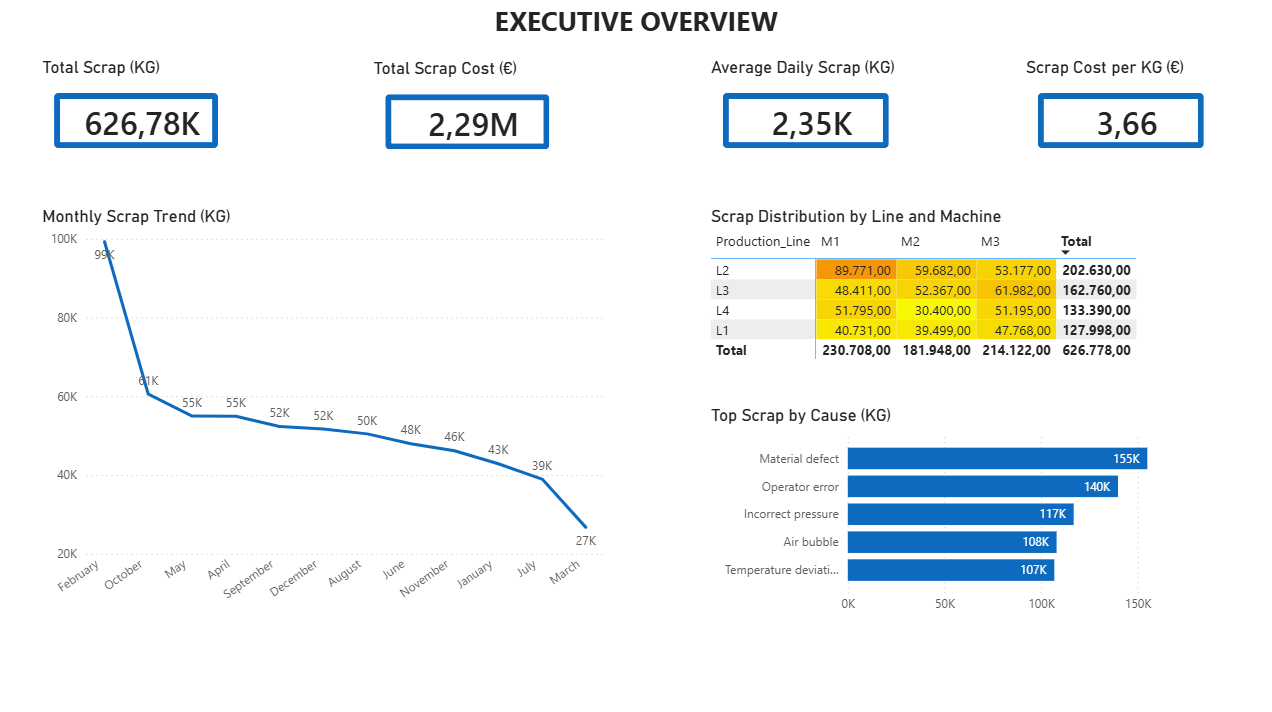

Layout of this report page (visuals, bound fields, positions):
{"tool":"powerbi","page":{"name":"Executive Overview","canvas":[1280,720],"ordinal":0},"visuals":[{"type":"cardVisual","title":"Total Scrap (KG)","fields":{"Data":["ScrapData.Total Scrap KG"]},"box":[41.2,60,198.8,108.8],"z":0},{"type":"textbox","box":[0,0,1280,49.8],"z":1000},{"type":"cardVisual","title":"Total Scrap Cost (€)","fields":{"Data":["ScrapData.Total Scrap Cost"]},"box":[372.5,61.2,198.8,108.8],"z":2000},{"type":"cardVisual","title":"Average Daily Scrap (KG)","fields":{"Data":["ScrapData.Avg Scrap/Day"]},"box":[710,60,200,108.8],"z":3000},{"type":"cardVisual","title":"Scrap Cost per KG (€)","fields":{"Data":["ScrapData.Scrap Cost/KG"]},"box":[1025,60,200,108.8],"z":4000},{"type":"lineChart","title":"Monthly Scrap Trend (KG)","fields":{"Category":["ScrapData.MonthName"],"Y":["ScrapData.Total Scrap KG"]},"box":[41.2,208.8,571.2,416.2],"z":5000},{"type":"barChart","title":"Top Scrap by Cause (KG)","fields":{"Y":["ScrapData.Total Scrap KG"],"Category":["ScrapData.Cause"]},"box":[710,407.5,515,217.5],"z":6000},{"type":"pivotTable","title":"Scrap Distribution by Line and Machine","fields":{"Rows":["ScrapData.Production_Line"],"Columns":["ScrapData.Machine"],"Values":["Sum(ScrapData.Scrap_KG)"]},"box":[710,208.8,515,167.5],"z":7000}]}

Visuals, with their boxes in screenshot pixels (x1, y1, x2, y2), scaled from the page's 1280x720 canvas onto the 1272x712 screenshot:
"Total Scrap (KG)" cardVisual: box(41, 59, 238, 167)
textbox: box(0, 0, 1271, 49)
"Total Scrap Cost (€)" cardVisual: box(370, 61, 568, 168)
"Average Daily Scrap (KG)" cardVisual: box(706, 59, 904, 167)
"Scrap Cost per KG (€)" cardVisual: box(1019, 59, 1217, 167)
"Monthly Scrap Trend (KG)" lineChart: box(41, 206, 609, 618)
"Top Scrap by Cause (KG)" barChart: box(706, 403, 1217, 618)
"Scrap Distribution by Line and Machine" pivotTable: box(706, 206, 1217, 372)
